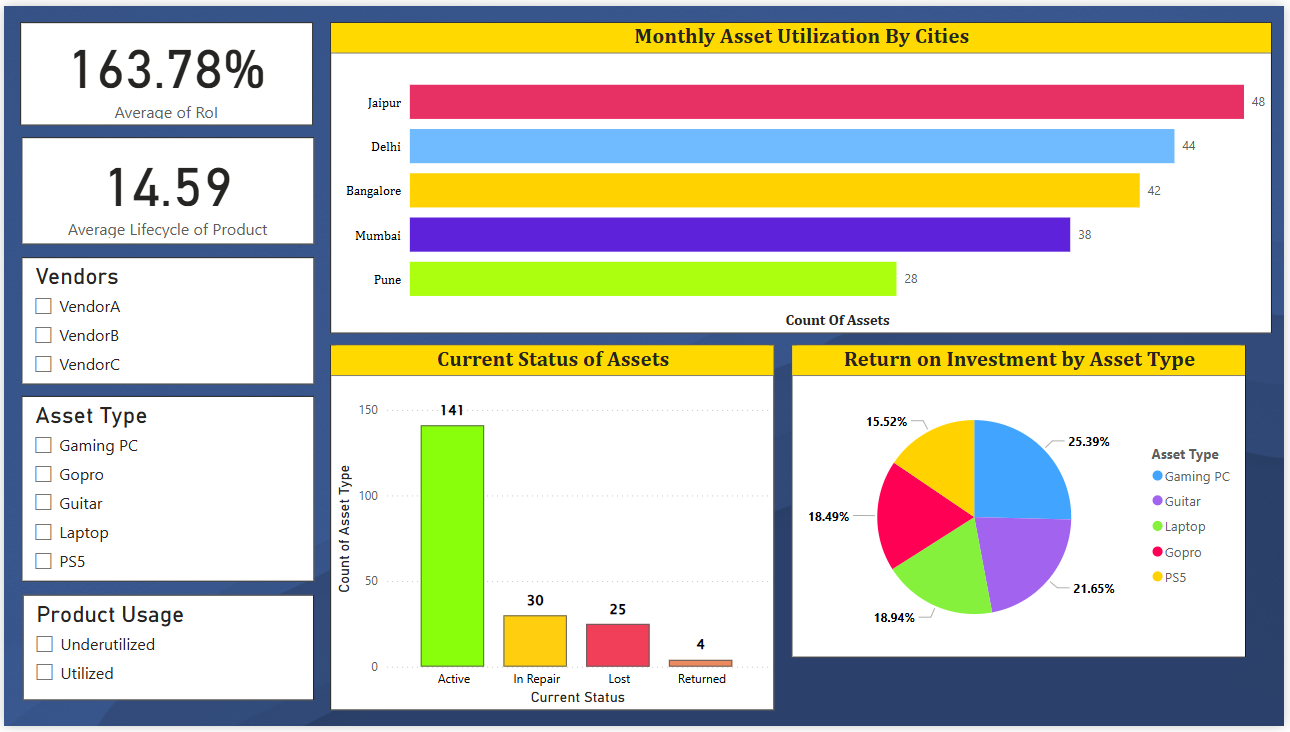

The page's visual inventory and layout, read from the dashboard file:
{"tool":"powerbi","page":{"name":"Page 1","canvas":[1280,720],"ordinal":0},"visuals":[{"type":"shape","box":[785.7,338.6,475.7,371.4],"z":0},{"type":"shape","box":[311.4,338.6,474.3,371.4],"z":1000},{"type":"shape","box":[311.7,11.7,948.3,326.7],"z":2000},{"type":"shape","box":[10,296.7,290,413.3],"z":3000},{"type":"clusteredBarChart","title":"Monthly Asset Utilization By  Cities","fields":{"Category":["Cleaned_Rental_Asset_Dataset.city"],"Y":["CountNonNull(Cleaned_Rental_Asset_Dataset.asset_utilization)"]},"box":[343.3,38.3,885,283.3],"z":4000},{"type":"pieChart","title":"Return on Investment by Asset Type","fields":{"Category":["Cleaned_Rental_Asset_Dataset.asset_type"],"Y":["Avg(Cleaned_Rental_Asset_Dataset.roi)"]},"box":[802.9,367.1,441.4,320],"z":5000},{"type":"clusteredColumnChart","title":"Current Status of Assets","fields":{"Category":["Cleaned_Rental_Asset_Dataset.current_status"],"Y":["CountNonNull(Cleaned_Rental_Asset_Dataset.asset_type)"]},"box":[338.6,362.9,421.4,324.3],"z":6000},{"type":"slicer","fields":{"Values":["Cleaned_Rental_Asset_Dataset.vendor_name"]},"box":[25,321.7,261.7,156.7],"z":7000},{"type":"cardVisual","fields":{"Data":["Avg(Cleaned_Rental_Asset_Dataset.roi)"]},"box":[0,11.7,311.7,158.3],"z":8000},{"type":"slicer","fields":{"Values":["Cleaned_Rental_Asset_Dataset.asset_type"]},"box":[23.3,505,261.7,183.3],"z":9000},{"type":"cardVisual","fields":{"Data":["Cleaned_Rental_Asset_Dataset.Average Life of Product"]},"box":[0,155,311.7,155],"z":10000},{"type":"shape","box":[23.3,478.3,261.7,26.7],"z":11000}]}

Visuals, with their boxes in screenshot pixels (x1, y1, x2, y2), scaled from the page's 1280x720 canvas onto the 1290x732 screenshot:
shape: x1=792 y1=344 x2=1271 y2=722
shape: x1=314 y1=344 x2=792 y2=722
shape: x1=314 y1=12 x2=1270 y2=344
shape: x1=10 y1=302 x2=302 y2=722
"Monthly Asset Utilization By  Cities" clusteredBarChart: x1=346 y1=39 x2=1238 y2=327
"Return on Investment by Asset Type" pieChart: x1=809 y1=373 x2=1254 y2=699
"Current Status of Assets" clusteredColumnChart: x1=341 y1=369 x2=766 y2=699
slicer - Cleaned_Rental_Asset_Dataset.vendor_name: x1=25 y1=327 x2=289 y2=486
cardVisual - Avg(Cleaned_Rental_Asset_Dataset.roi): x1=0 y1=12 x2=314 y2=173
slicer - Cleaned_Rental_Asset_Dataset.asset_type: x1=23 y1=513 x2=287 y2=700
cardVisual - Cleaned_Rental_Asset_Dataset.Average Life of Product: x1=0 y1=158 x2=314 y2=315
shape: x1=23 y1=486 x2=287 y2=513
